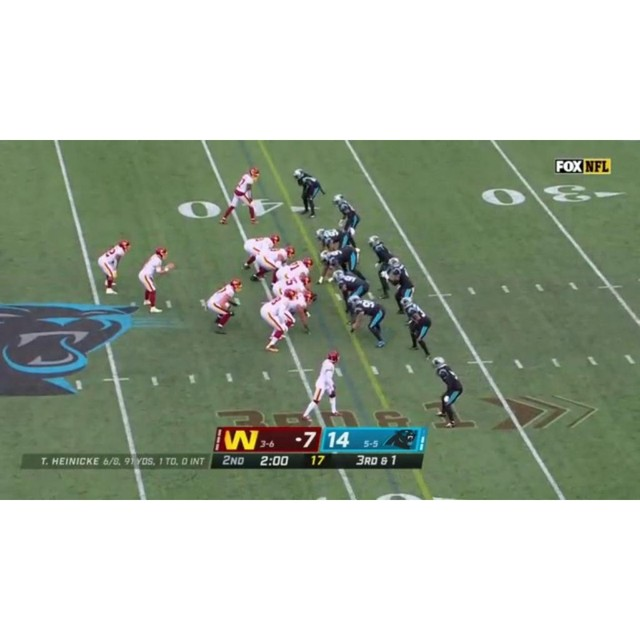american-football-player: (302, 350, 342, 421), (219, 166, 260, 226), (138, 248, 174, 315), (430, 357, 464, 427), (259, 288, 295, 353), (204, 278, 243, 334), (399, 298, 433, 360), (347, 295, 387, 347), (368, 234, 397, 297), (98, 239, 130, 295), (385, 258, 416, 315), (292, 167, 324, 219), (318, 246, 360, 284), (253, 245, 295, 282), (332, 270, 370, 309), (241, 233, 281, 270), (285, 291, 317, 335), (275, 257, 315, 288), (333, 194, 361, 233), (316, 228, 351, 255), (271, 275, 310, 299)
